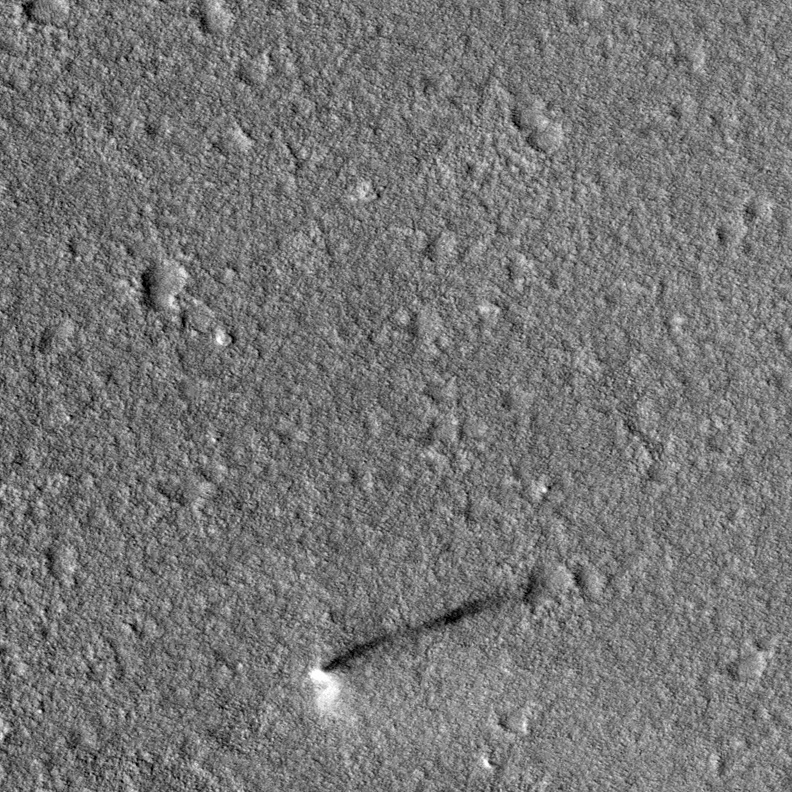dust_devil: (304, 578, 538, 720)
